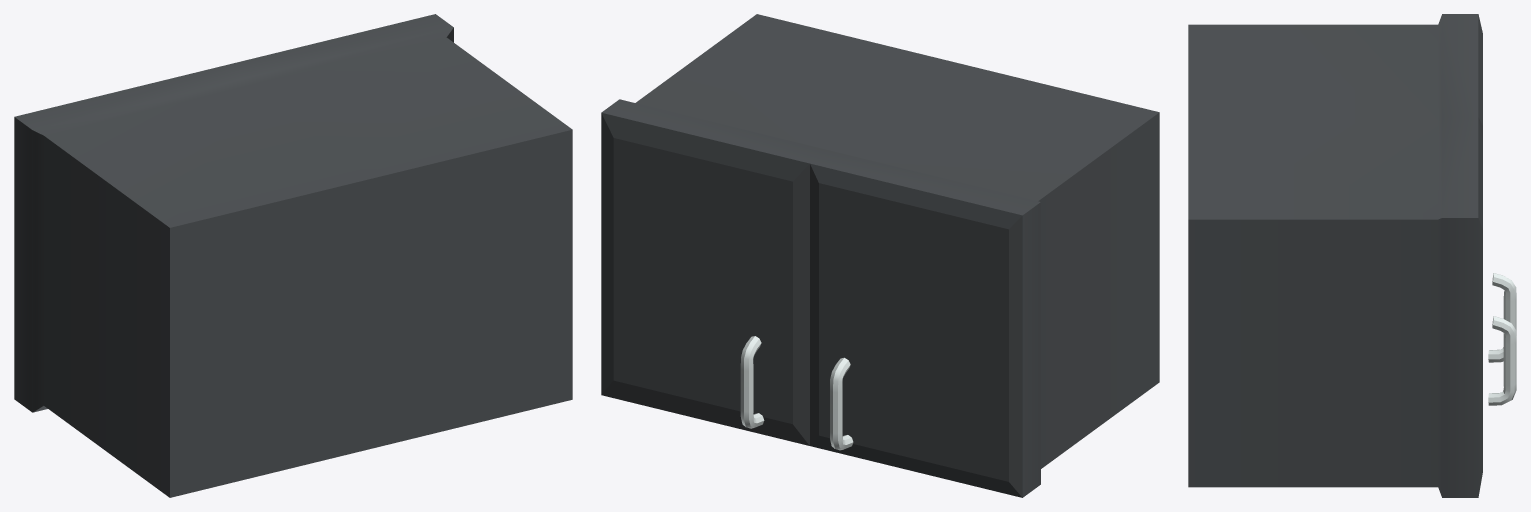
The model's file is cabnet.fbx.
The picture shows the model from 3 angles, left to right: view 1: azimuth 30°, elevation 25°; view 2: azimuth 150°, elevation 25°; view 3: azimuth 270°, elevation 25°; orthographic projection.
Visible parts, largest first — view 1: cabnet; view 2: cabnet; view 3: cabnet.
Boxes of the visible parts, x1,y1,x2,y2 form: cabnet: [14, 14, 572, 497]; cabnet: [601, 14, 1159, 497]; cabnet: [1188, 14, 1516, 497].
Size of the model in its own units: 3.71 by 2.38 by 2.53.
Materials: 1 (1 with a texture image).
